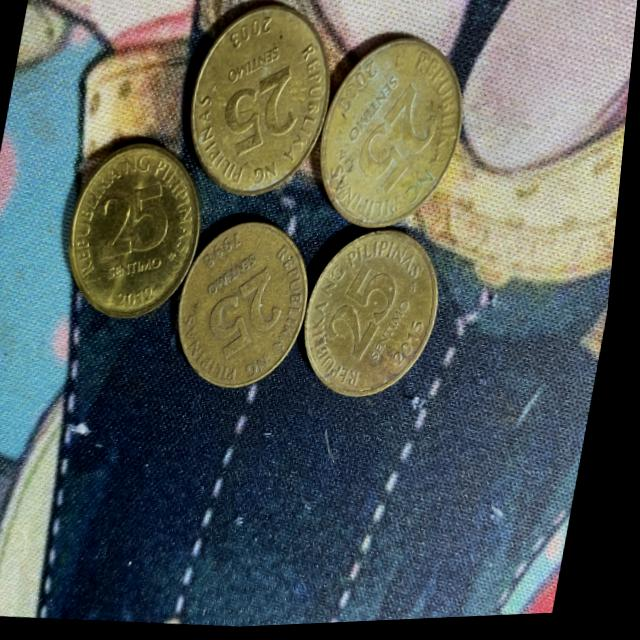25Cent_Old_Front: (357, 91, 443, 202), (208, 271, 292, 369), (328, 267, 408, 364), (97, 174, 177, 270), (222, 68, 305, 160)
